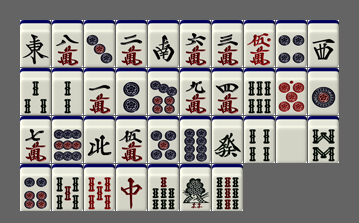0m: (244, 20, 275, 67)
0p: (276, 68, 307, 115)
0s: (84, 164, 115, 211)
1m: (84, 68, 115, 115)
1p: (308, 68, 339, 115)
1s: (180, 164, 211, 211)
1z: (20, 20, 51, 67)
2m: (116, 20, 147, 67)
2p: (116, 68, 147, 115)
2s: (52, 68, 83, 115)
2z: (148, 20, 179, 67)
3m: (212, 20, 243, 67)
3p: (84, 20, 115, 67)
3s: (20, 68, 51, 115)
3z: (308, 20, 339, 67)
4m: (212, 68, 243, 115)
4p: (276, 20, 307, 67)
4s: (244, 116, 275, 163)
4z: (84, 116, 115, 163)
5m: (116, 116, 147, 163)
5p: (148, 116, 179, 163)
5s: (52, 164, 83, 211)
5z: (276, 116, 307, 163)
6m: (180, 20, 211, 67)
6p: (20, 164, 51, 211)
6s: (244, 68, 275, 115)
6z: (212, 116, 243, 163)
7m: (20, 116, 51, 163)
7p: (148, 68, 179, 115)
7s: (148, 164, 179, 211)
7z: (116, 164, 147, 211)
8m: (52, 20, 83, 67)
8p: (180, 116, 211, 163)
8s: (308, 116, 339, 163)
9m: (180, 68, 211, 115)
9p: (52, 116, 83, 163)
9s: (212, 164, 243, 211)
